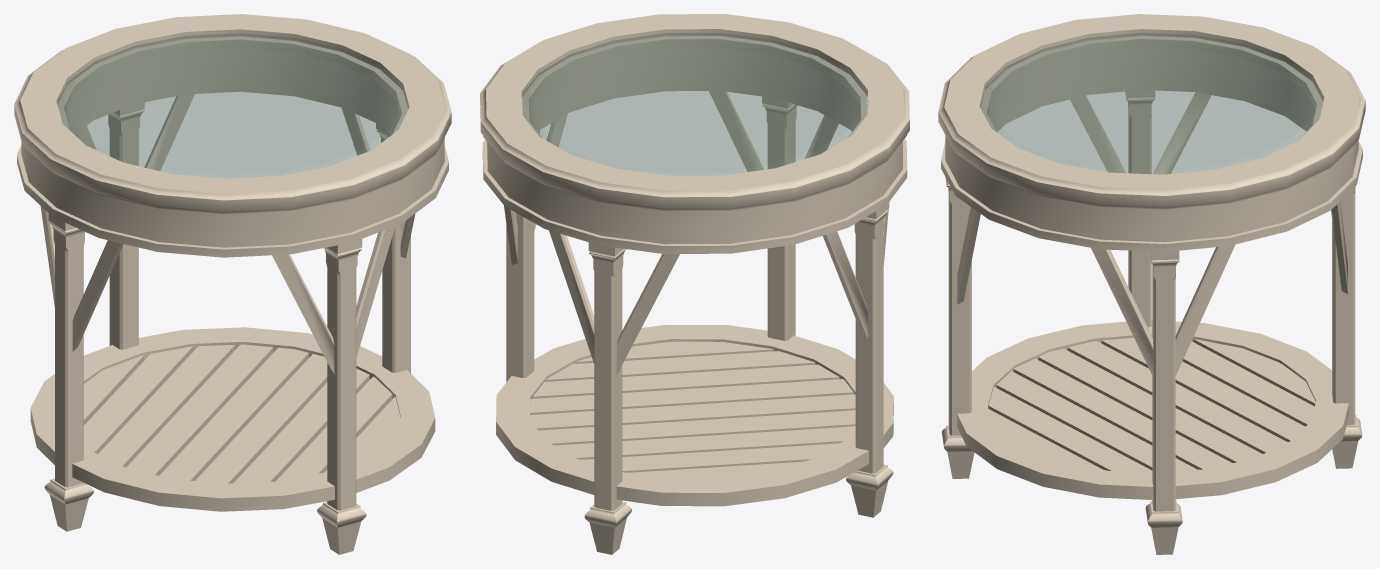
File: small_table01.glb
3 views of the same model, side by side, from view 1: azimuth 30°, elevation 25°; view 2: azimuth 150°, elevation 25°; view 3: azimuth 270°, elevation 25° (orthographic). The views are drawn at different scales.
Visible parts, largest first — view 1: small_table01; view 2: small_table01; view 3: small_table01.
Part boxes in pixels (box(x1,y1,x2,y2)): small_table01: box(14, 14, 451, 554); small_table01: box(480, 14, 909, 554); small_table01: box(938, 14, 1365, 554).
Size of the model in its own units: 0.3926 by 0.3737 by 0.3926.
